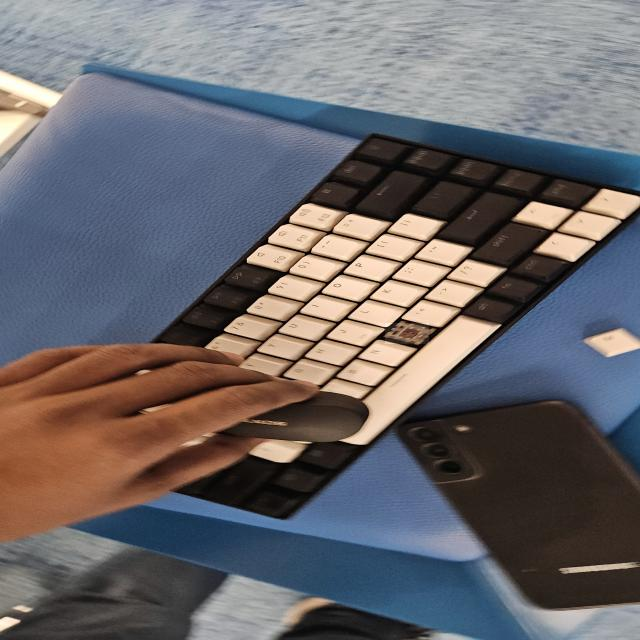C: (385, 323, 429, 344)
